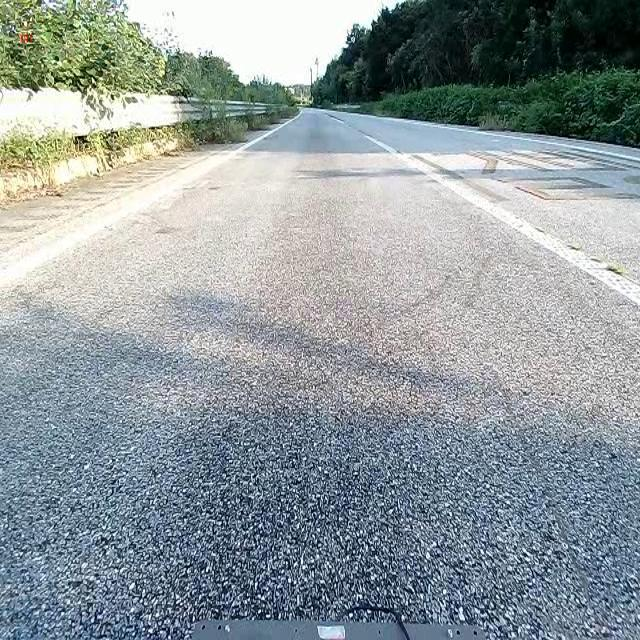Lane: (0, 105, 308, 293), (364, 124, 639, 314), (0, 125, 283, 294), (368, 136, 639, 307)
